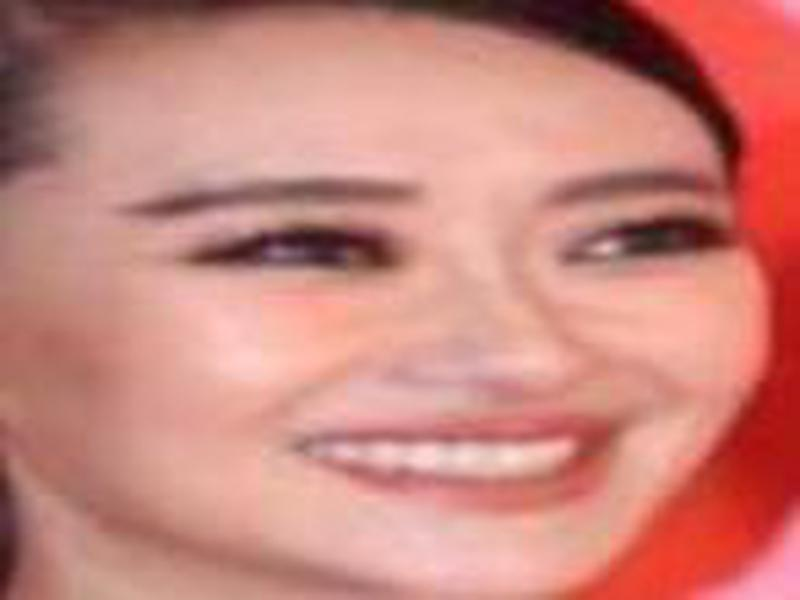without_mask: (44, 42, 780, 599)
